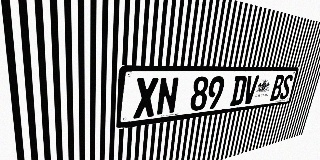8: (189, 76, 210, 112)
9: (206, 76, 226, 109)
B: (270, 75, 285, 101)
D: (230, 75, 248, 106)
N: (156, 77, 179, 116)
S: (279, 74, 294, 100)
V: (242, 75, 259, 105)
X: (133, 77, 159, 119)
